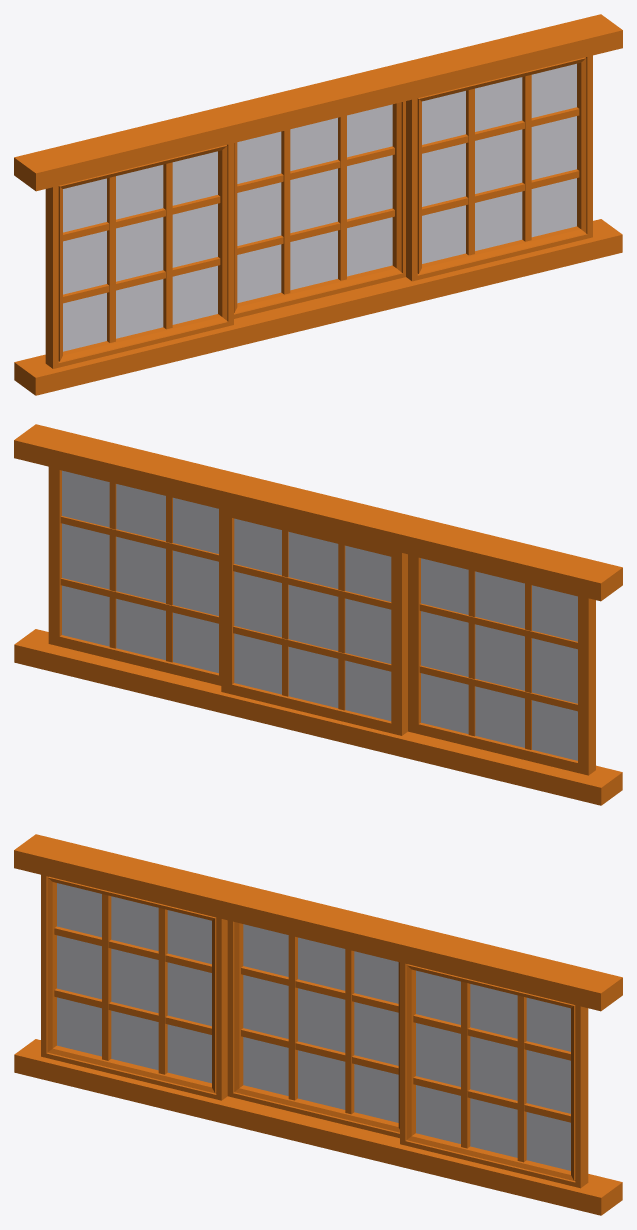
Rendered from Shoji_Window.fbx.
3 views of the same model, one above another, from view 1: azimuth 30°, elevation 25°; view 2: azimuth 150°, elevation 25°; view 3: azimuth 330°, elevation 25° (orthographic).
Visible parts, largest first — view 1: Cube.001; view 2: Cube.001; view 3: Cube.001.
Part boxes in pixels (x1=…): Cube.001: x1=14, y1=14, x2=622, y2=395; Cube.001: x1=14, y1=424, x2=622, y2=805; Cube.001: x1=14, y1=834, x2=622, y2=1215.
Bounding box in the file's own units: 244 × 88.51 × 15.81.
